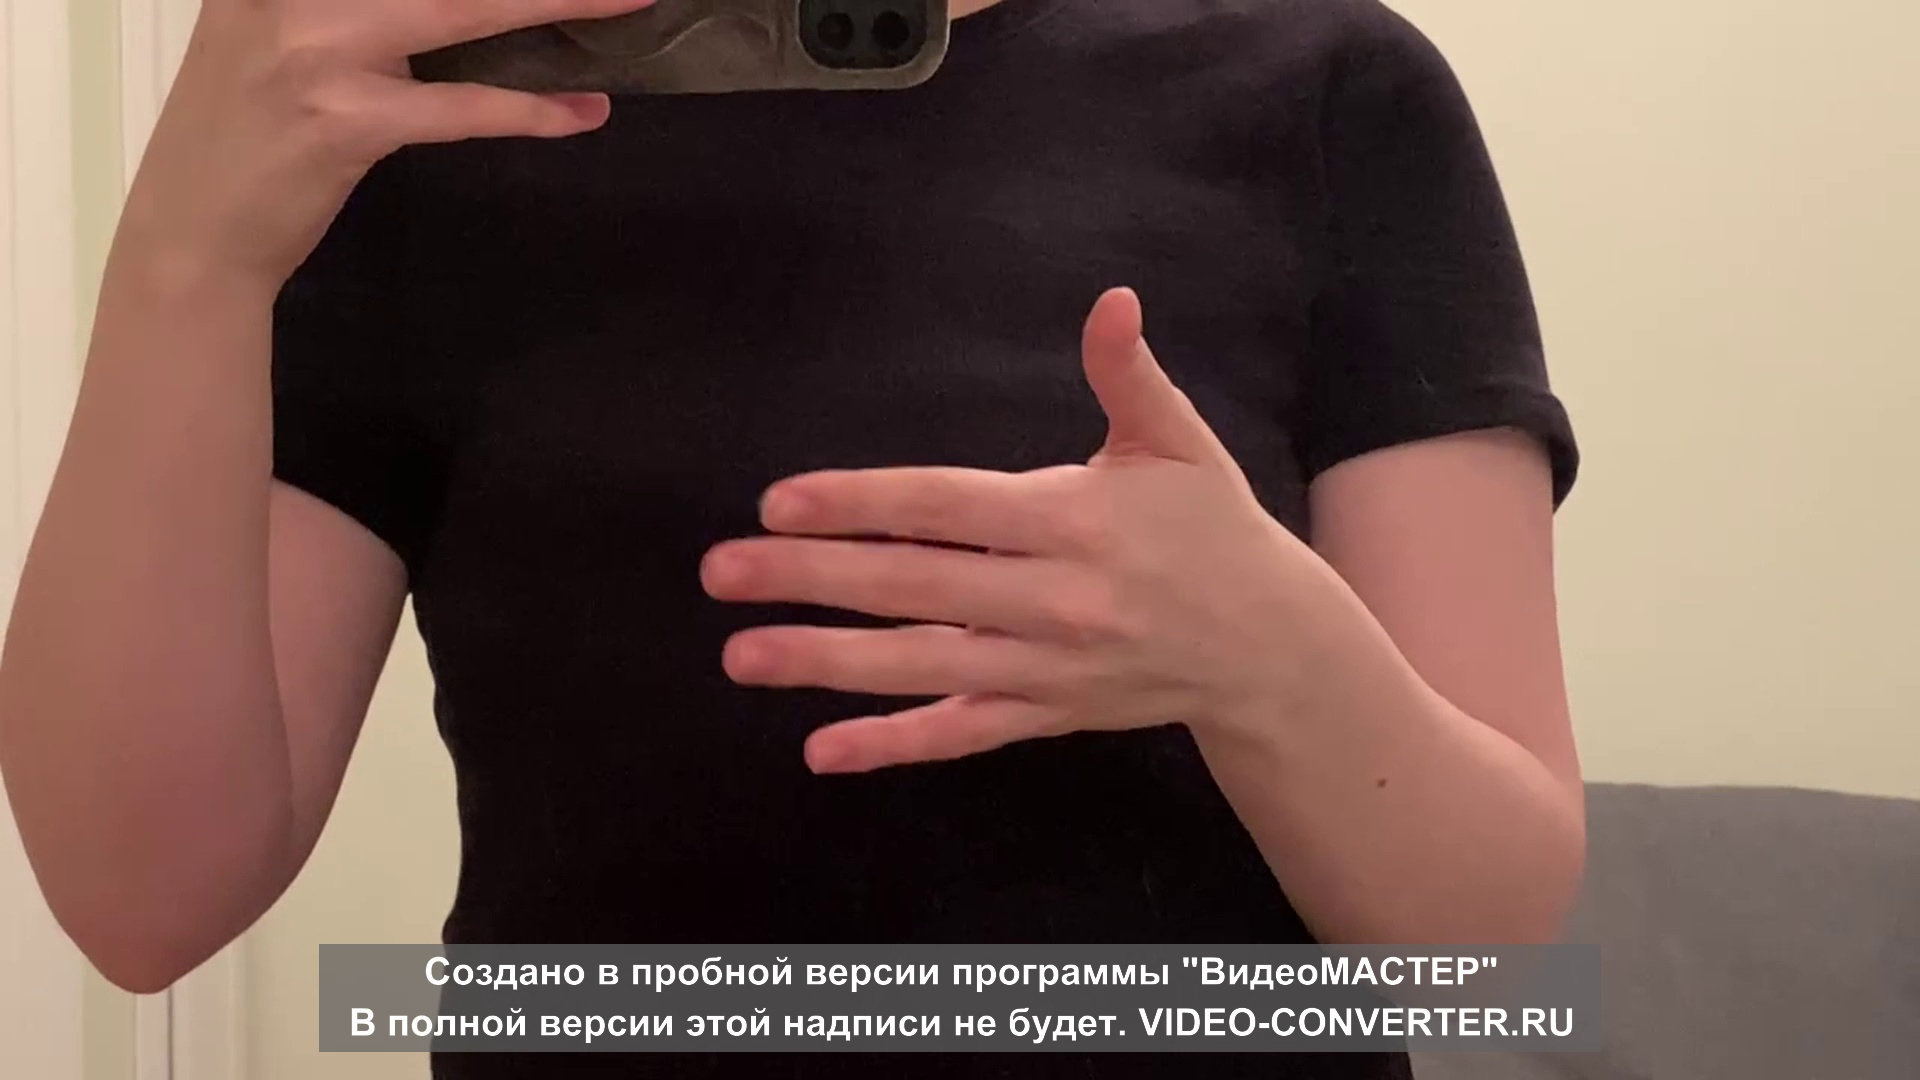Кисть: (702, 287, 1259, 777)
